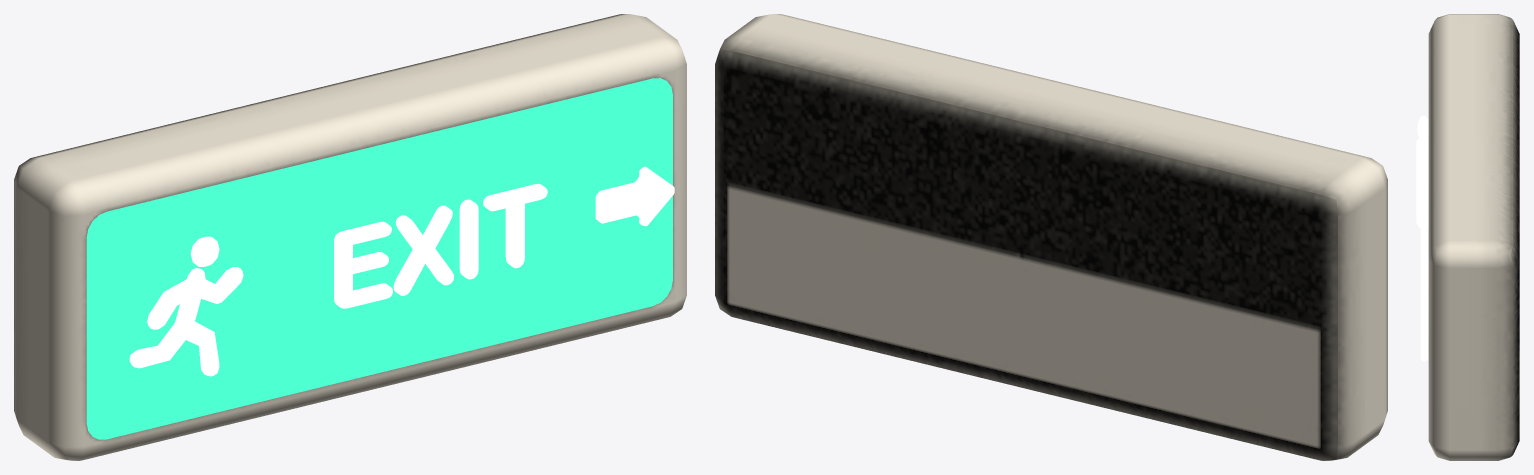
File: exit_sign.glb
The picture shows the model from 3 angles, left to right: view 1: azimuth 30°, elevation 25°; view 2: azimuth 150°, elevation 25°; view 3: azimuth 270°, elevation 25°; orthographic projection. The views are drawn at different scales.
Parts seen in each view (by area): view 1: exit_sign; view 2: exit_sign; view 3: exit_sign.
Part boxes in pixels (x1,y1,x2,y2): exit_sign: [14, 14, 686, 460]; exit_sign: [715, 14, 1387, 460]; exit_sign: [1416, 14, 1519, 460].
Size of the model in its own units: 0.38 by 0.16 by 0.0681.
3 materials, 1 textured.
